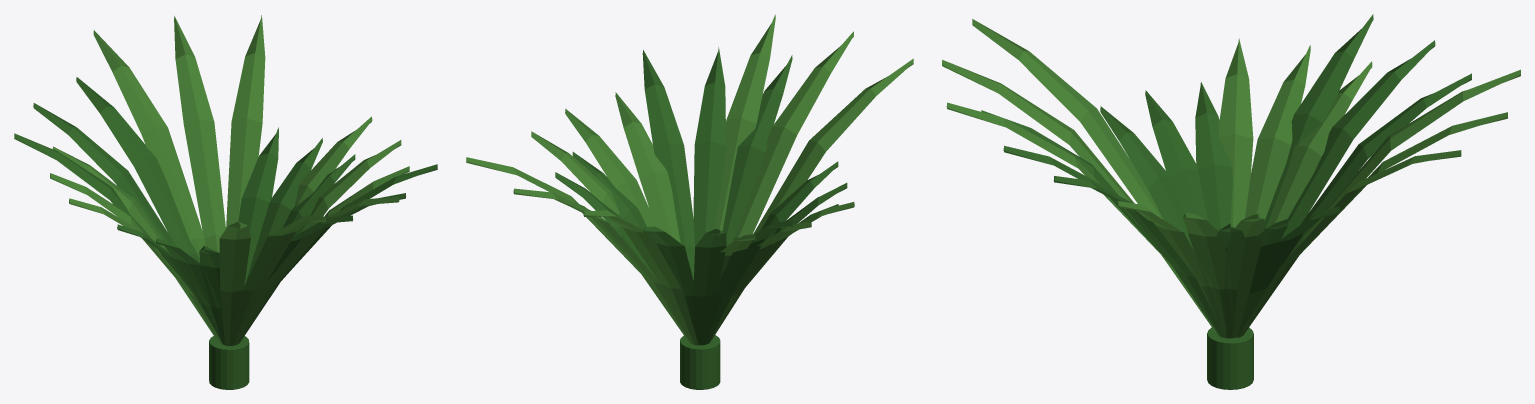
The picture shows the model from 3 angles, left to right: view 1: azimuth 30°, elevation 25°; view 2: azimuth 150°, elevation 25°; view 3: azimuth 270°, elevation 25°; orthographic projection. The views are drawn at different scales.
Visible parts, largest first — view 1: PANDAN_Blade_11, PANDAN_Blade_3, PANDAN_Blade_19, PANDAN_Blade_6, PANDAN_Blade_7, PANDAN_Blade_16, PANDAN_Blade_15, PANDAN_Blade_14, PANDAN_Blade_8, PANDAN_Core, PANDAN_Blade_23, PANDAN_Blade_21 (+13 smaller); view 2: PANDAN_Blade_10, PANDAN_Blade_15, PANDAN_Blade_18, PANDAN_Blade_23, PANDAN_Blade_2, PANDAN_Blade_5, PANDAN_Blade_7, PANDAN_Blade_19, PANDAN_Blade_14, PANDAN_Blade_22, PANDAN_Blade_13, PANDAN_Core (+11 smaller); view 3: PANDAN_Blade_7, PANDAN_Blade_9, PANDAN_Blade_17, PANDAN_Blade_14, PANDAN_Blade_4, PANDAN_Blade_22, PANDAN_Blade_1, PANDAN_Blade_12, PANDAN_Blade_21, PANDAN_Blade_6, PANDAN_Blade_20, PANDAN_Blade_13 (+12 smaller).
Boxes of the visible parts, box(x1,y1,x2,y2) form: PANDAN_Blade_11: box(174, 16, 225, 252); PANDAN_Blade_3: box(226, 15, 265, 228); PANDAN_Blade_19: box(93, 30, 205, 261); PANDAN_Blade_6: box(76, 77, 199, 262); PANDAN_Blade_7: box(219, 221, 250, 345); PANDAN_Blade_16: box(238, 127, 278, 285); PANDAN_Blade_15: box(230, 215, 325, 345); PANDAN_Blade_14: box(33, 103, 174, 244); PANDAN_Blade_8: box(246, 138, 322, 280); PANDAN_Core: box(209, 336, 249, 389); PANDAN_Blade_23: box(234, 196, 399, 345); PANDAN_Blade_21: box(294, 116, 372, 205); PANDAN_Blade_10: box(693, 47, 726, 246); PANDAN_Blade_15: box(733, 31, 853, 241); PANDAN_Blade_18: box(642, 50, 694, 280); PANDAN_Blade_23: box(714, 14, 775, 230); PANDAN_Blade_2: box(722, 55, 792, 246); PANDAN_Blade_5: box(615, 92, 680, 243); PANDAN_Blade_7: box(753, 58, 913, 234); PANDAN_Blade_19: box(583, 210, 698, 345); PANDAN_Blade_14: box(693, 229, 726, 345); PANDAN_Blade_22: box(701, 221, 793, 345); PANDAN_Blade_13: box(565, 108, 656, 226); PANDAN_Core: box(680, 335, 720, 389); PANDAN_Blade_7: box(972, 19, 1163, 219); PANDAN_Blade_9: box(1245, 45, 1310, 220); PANDAN_Blade_17: box(1218, 38, 1253, 227); PANDAN_Blade_14: box(1281, 40, 1435, 238); PANDAN_Blade_4: box(1195, 82, 1232, 231); PANDAN_Blade_22: box(1264, 14, 1373, 229); PANDAN_Blade_1: box(1268, 61, 1372, 226); PANDAN_Blade_12: box(1145, 90, 1207, 220); PANDAN_Blade_21: box(1224, 214, 1264, 338); PANDAN_Blade_6: box(1286, 73, 1471, 259); PANDAN_Blade_20: box(1100, 106, 1193, 249); PANDAN_Blade_13: box(1183, 213, 1233, 338).
Bounding box in the file's own units: 0.8022 × 0.647 × 1.11.
